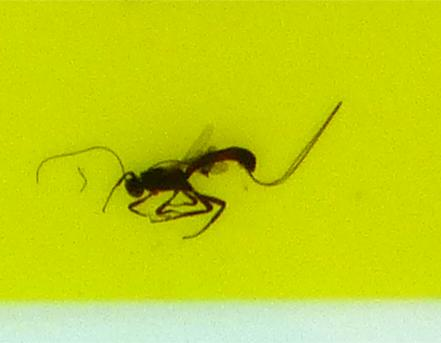Hymenoptera: (100, 100, 341, 243)
